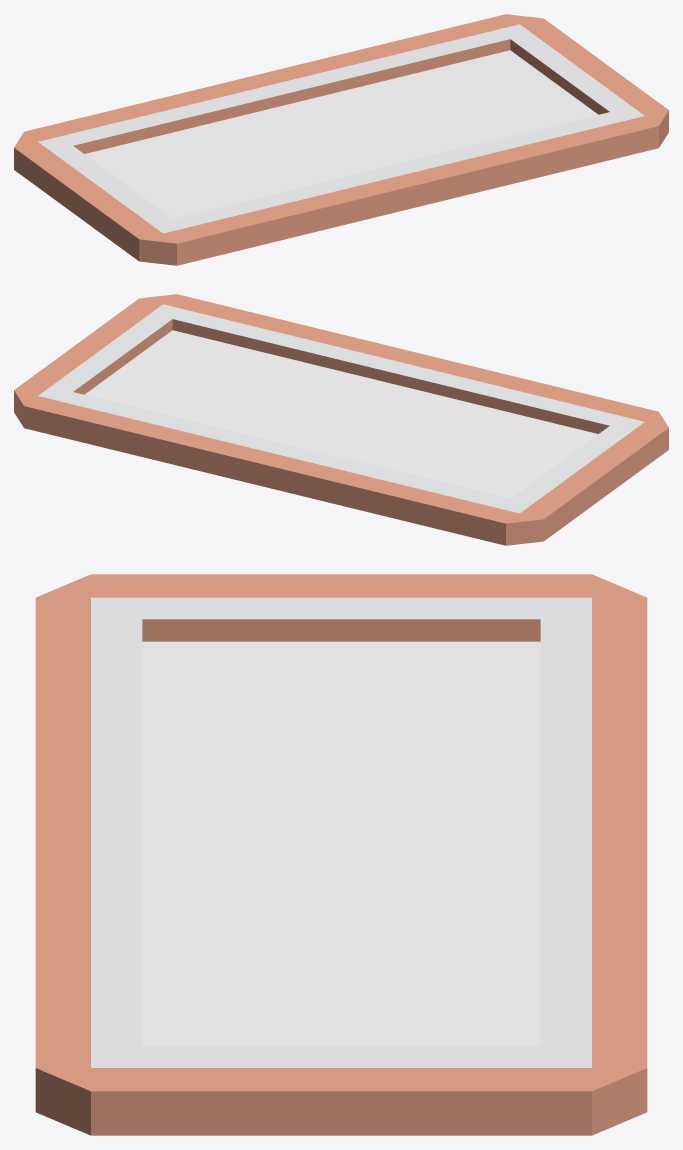
File: metalTileDouble.glb
3 views of the same model, one above another, from view 1: azimuth 30°, elevation 25°; view 2: azimuth 150°, elevation 25°; view 3: azimuth 270°, elevation 25° (orthographic). The views are drawn at different scales.
Visible parts, largest first — view 1: metalTileDouble; view 2: metalTileDouble; view 3: metalTileDouble.
Part boxes in pixels (left/top/right/bottom): metalTileDouble: left=14, top=14, right=668, bottom=265; metalTileDouble: left=14, top=294, right=668, bottom=545; metalTileDouble: left=35, top=574, right=647, bottom=1135.
Size of the model in its own units: 20 by 0.8 by 10.
